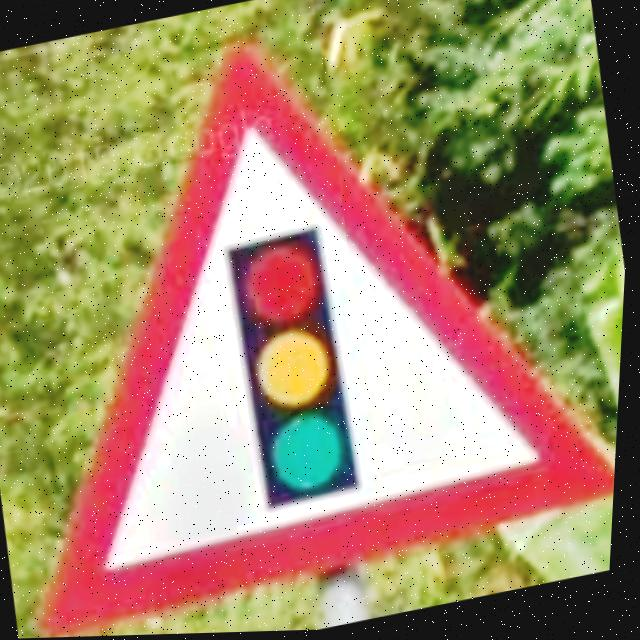signalahead: (47, 41, 620, 638)
